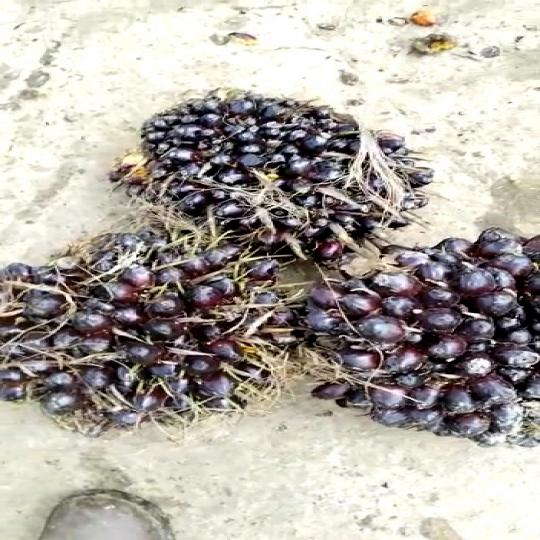mentah: (0, 227, 325, 444), (274, 228, 540, 447), (124, 86, 424, 264)
